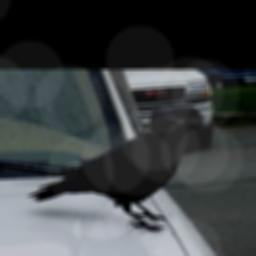Crow: (28, 114, 187, 232)
